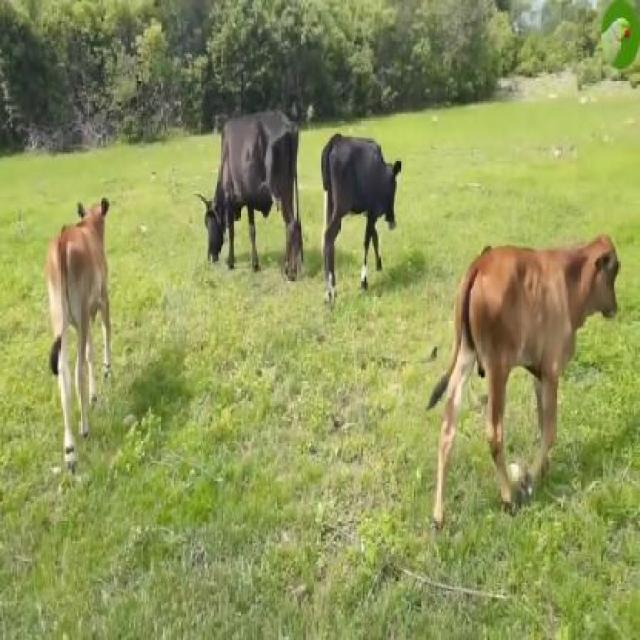Cow: (430, 229, 618, 531), (46, 189, 111, 465), (205, 114, 300, 288), (320, 128, 400, 300)
